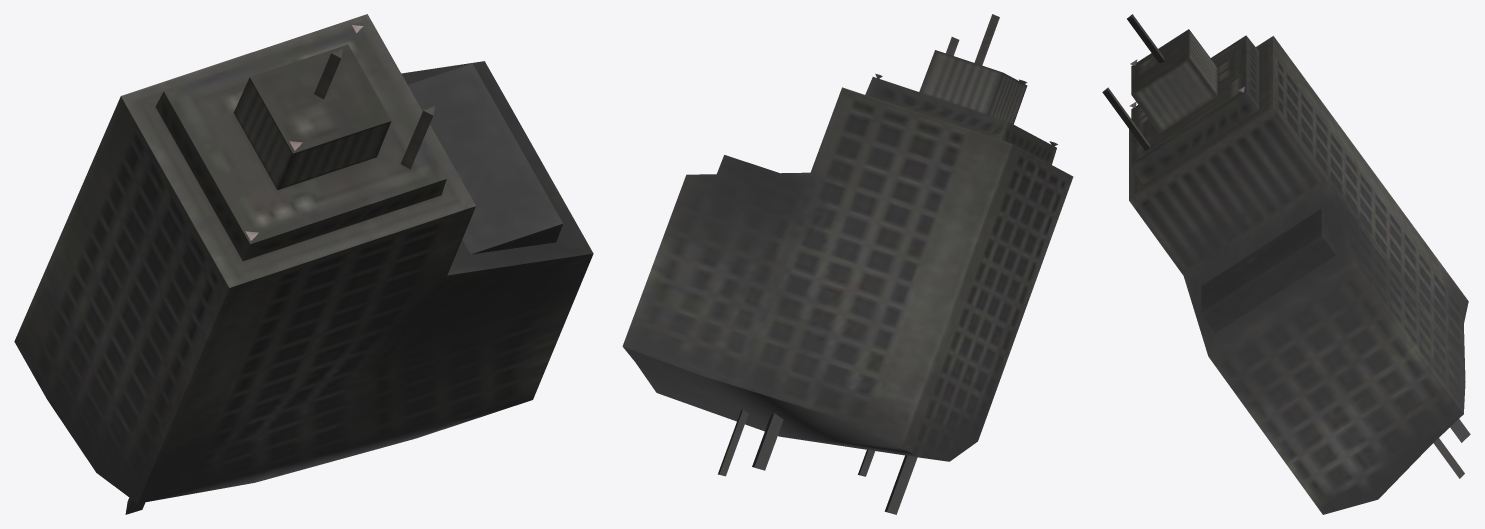
Rendered from skyBuildingAAB_pos_grp (24).fbx.
3 renders of one model, left to right at view 1: azimuth 30°, elevation 25°; view 2: azimuth 150°, elevation 25°; view 3: azimuth 270°, elevation 25°, orthographic. The views are drawn at different scales.
Parts seen in each view (by area): view 1: skyBuildingAAB_geo; view 2: skyBuildingAAB_geo; view 3: skyBuildingAAB_geo.
Part boxes in pixels (x1,y1,x2,y2): skyBuildingAAB_geo: (14, 14, 593, 514); skyBuildingAAB_geo: (622, 14, 1073, 514); skyBuildingAAB_geo: (1102, 14, 1470, 514).
Size of the model in its own units: 5.57 by 7.01 by 5.45.
Materials: 1 (1 with a texture image).
